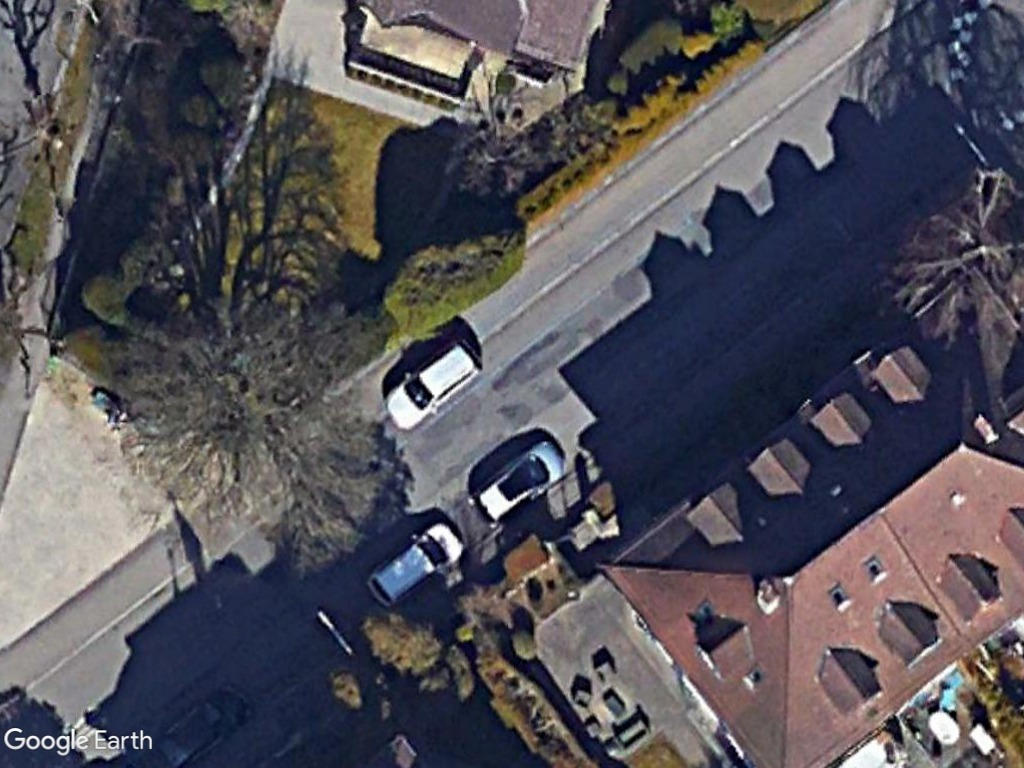car: (380, 336, 486, 433), (362, 515, 469, 611), (468, 433, 573, 528)
